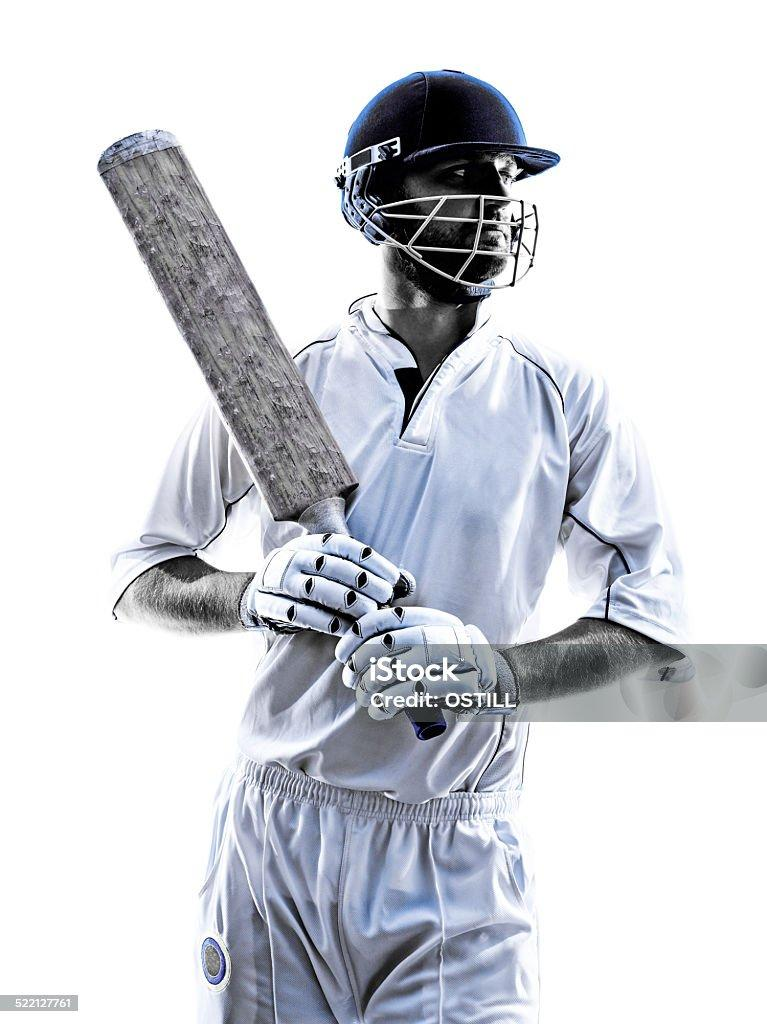batsman: (133, 46, 692, 1006)
